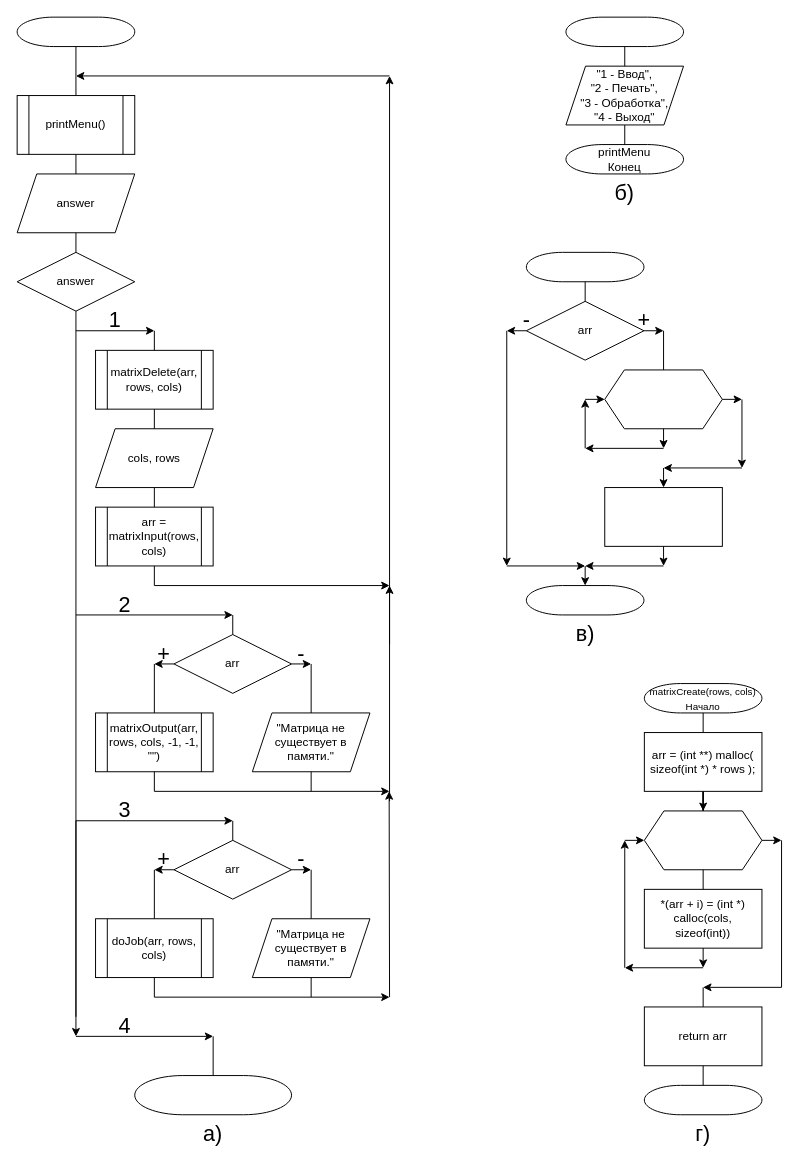
This 807x1164 diagram has some shape labels left out. Each missing label, with the centre of its shape:
free(arr); arr = 0;: the point at 663,516
i = 0; i < cols; free(*(arr + i++)): the point at 663,399
i = 0; i < rows; i++: the point at 702,840
matrixCreate Начало: the point at 702,1099
matrixDelete Конец: the point at 584,600
matrixDelete(*arr, rows, cols) Начало: the point at 584,266
printMenu() Начало: the point at 624,31
Конец: the point at 213,1095
Начало: the point at 75,31
